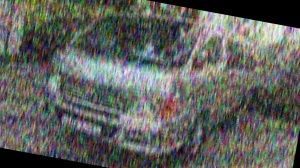van: (33, 0, 266, 167)
